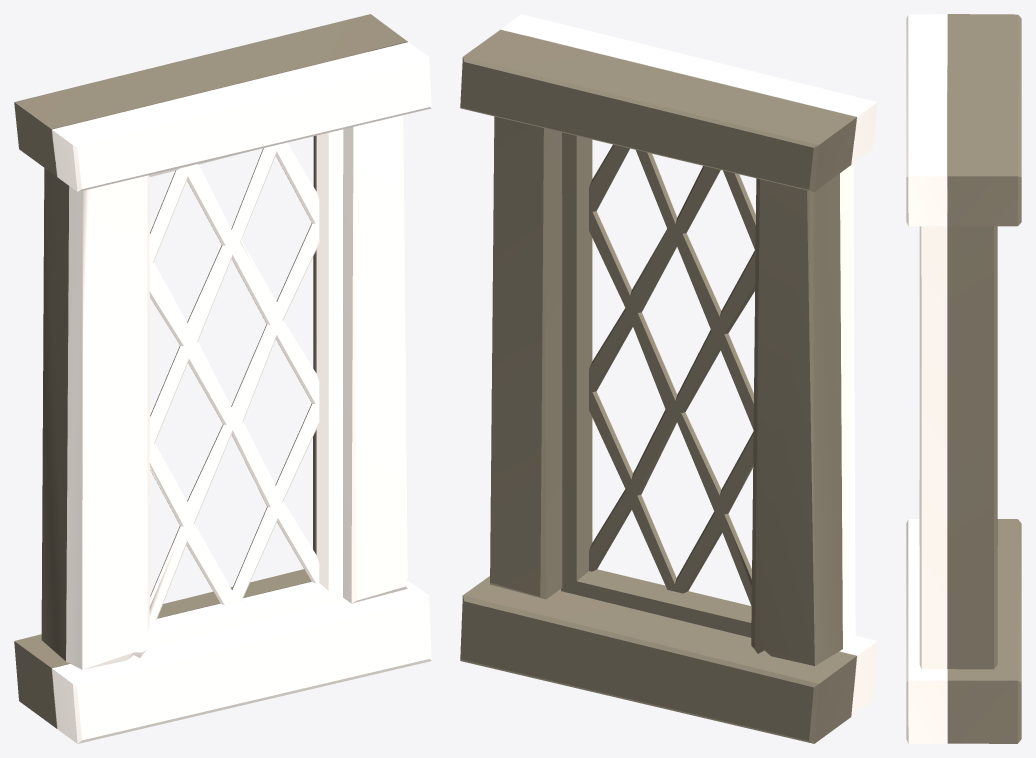
File: windowframe.gltf
The picture shows the model from 3 angles, left to right: view 1: azimuth 30°, elevation 25°; view 2: azimuth 150°, elevation 25°; view 3: azimuth 270°, elevation 25°; orthographic projection. The views are drawn at different scales.
Parts seen in each view (by area): view 1: Line077, Line077_med_diffuse_0.001; view 2: Line077_med_diffuse_0.001, Line077; view 3: Line077_med_diffuse_0.001, Line077.
Boxes of the visible parts, x1,y1,x2,y2 form: Line077: [52, 42, 431, 743]; Line077_med_diffuse_0.001: [14, 14, 407, 728]; Line077_med_diffuse_0.001: [460, 29, 856, 743]; Line077: [501, 14, 877, 716]; Line077_med_diffuse_0.001: [947, 14, 1021, 743]; Line077: [906, 14, 946, 743].
Size of the model in its own units: 0.8798 by 1.41 by 0.26.
Materials: 2 (2 with a texture image).
